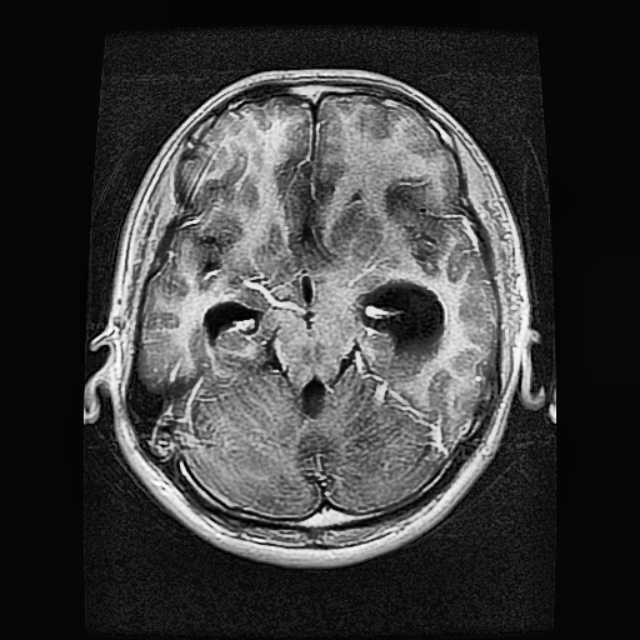Glioma: (357, 284, 450, 348)
